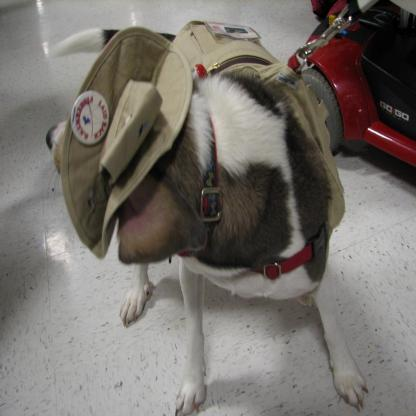Car: (288, 1, 416, 167)
